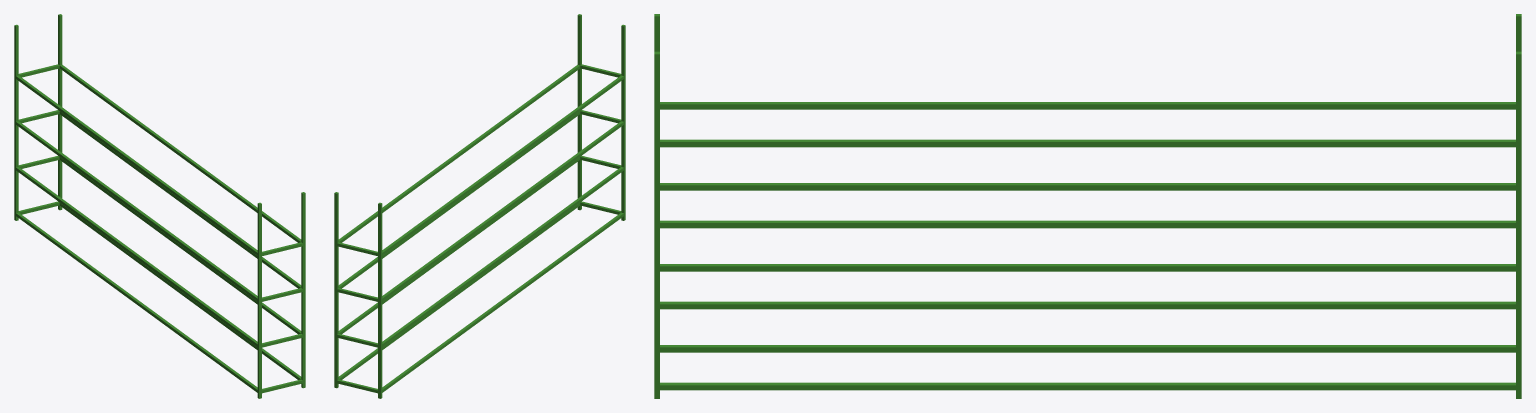
The model's file is reol støre.fbx.
3 renders of one model, left to right at view 1: azimuth 30°, elevation 25°; view 2: azimuth 150°, elevation 25°; view 3: azimuth 270°, elevation 25°, orthographic. The views are drawn at different scales.
Parts seen in each view (by area): view 1: columns_small (×10); view 2: columns_small (×10); view 3: columns_small (×6).
Boxes of the visible parts, x1,y1,x2,y2 form: columns_small (×10): (14, 14, 305, 398); columns_small (×10): (334, 14, 625, 398); columns_small (×6): (654, 14, 1521, 398).
Bounding box in the file's own units: 10 × 40 × 91.2.
